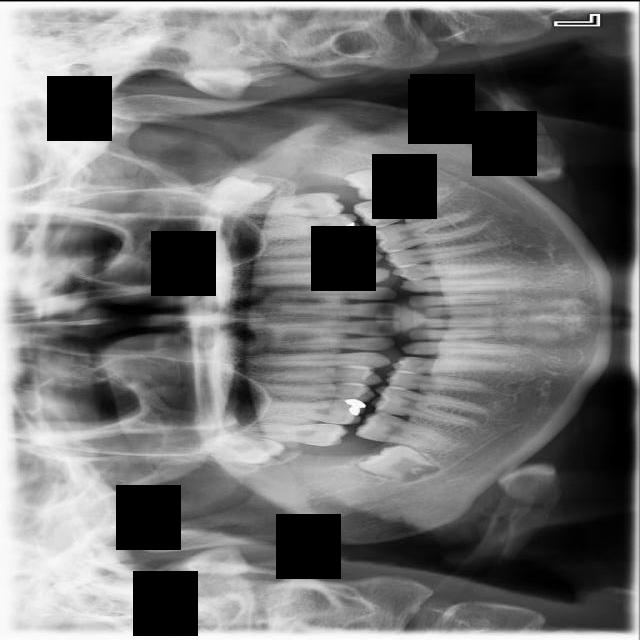3M ESPE Implant: (189, 428, 285, 467)
52: (369, 377, 416, 423), (351, 193, 402, 233), (311, 209, 364, 244), (319, 396, 367, 425)
73: (538, 39, 548, 43)
BioHorizons Implant: (219, 190, 345, 221)
BioLife Implant: (190, 159, 276, 227)
Biomet 3i Implant: (342, 156, 430, 204)
Blue Sky Bio Implant: (350, 180, 464, 232)
Caries: (222, 422, 349, 446)
Implant: (354, 407, 461, 455)
Keystone Dental Implant: (356, 434, 436, 491)
